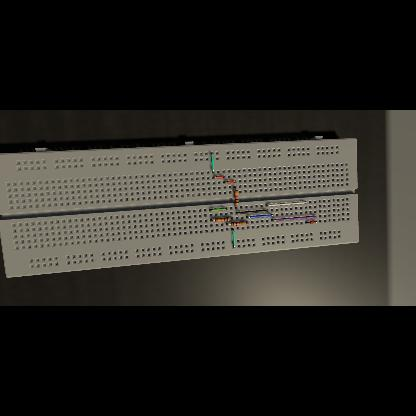breadboard: (0, 136, 358, 278)
resistor: (233, 191, 238, 205), (215, 218, 229, 223), (231, 221, 245, 226)
wire: (272, 216, 316, 222), (266, 202, 306, 206), (236, 210, 268, 214), (246, 214, 274, 218), (210, 153, 214, 173), (231, 228, 235, 247), (210, 208, 226, 212), (213, 176, 225, 178), (223, 181, 235, 183), (305, 222, 317, 224), (211, 219, 215, 221), (235, 206, 237, 209), (230, 218, 233, 220), (234, 188, 236, 190), (245, 222, 247, 224), (226, 223, 230, 224)
